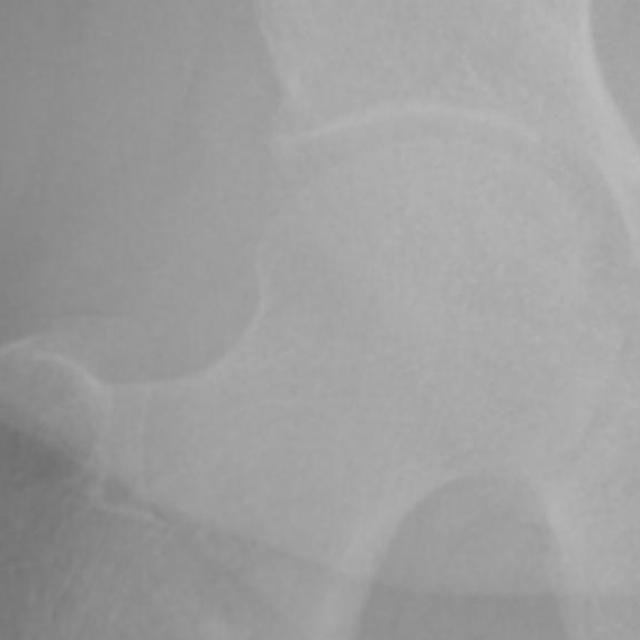Fitted_femural_head: (364, 137, 432, 364)
